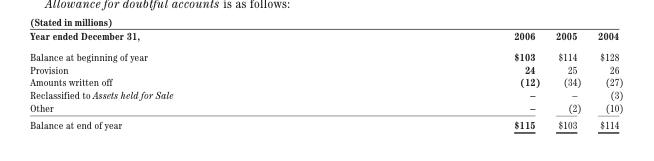table: (29, 29, 622, 130)
table column: (29, 29, 343, 130), (343, 29, 547, 130), (547, 29, 588, 130), (588, 29, 622, 130)
table column header: (29, 29, 622, 45)
table row: (29, 45, 622, 62), (29, 29, 622, 45), (29, 101, 622, 116), (29, 116, 622, 130), (29, 62, 622, 75), (29, 75, 622, 88), (29, 88, 622, 101)
